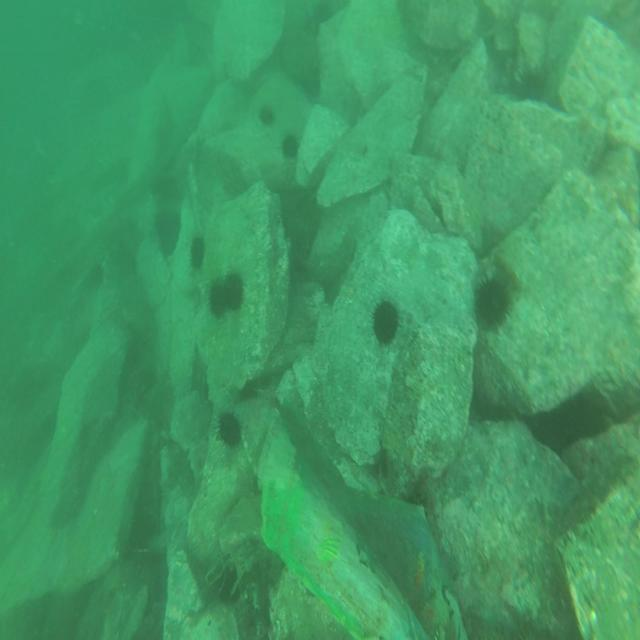echinus: (473, 268, 509, 334), (370, 295, 400, 340), (216, 408, 242, 448), (221, 270, 245, 312), (208, 278, 231, 320), (187, 233, 207, 270), (282, 132, 299, 160), (259, 104, 275, 129)
